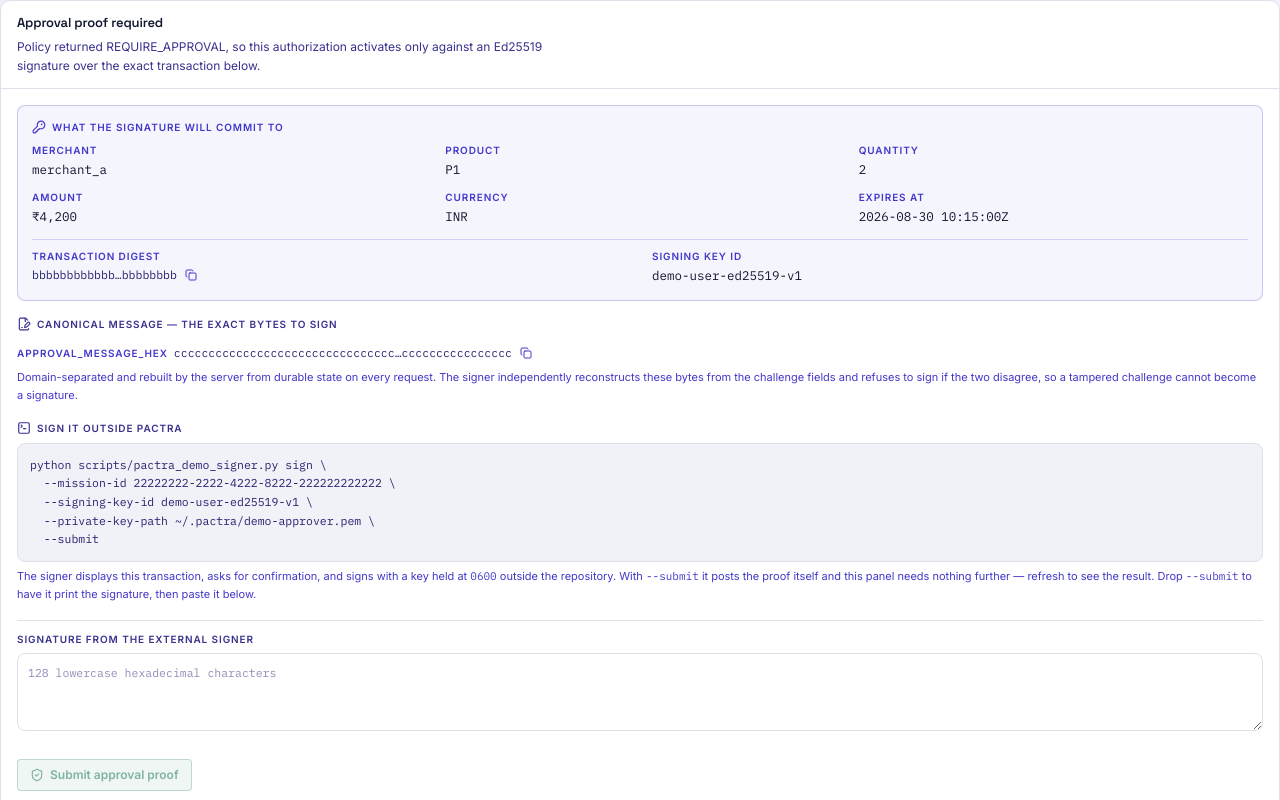
Test: SignedApprovalPanel › keeps submission disabled until the signature is well formed
Expected: the button "Submit approval proof" is disabled, [17,759,192,791]
Type "nothex" into the text box labelled "Signature from the external signer" at (640,692), box [17,653,1263,731]
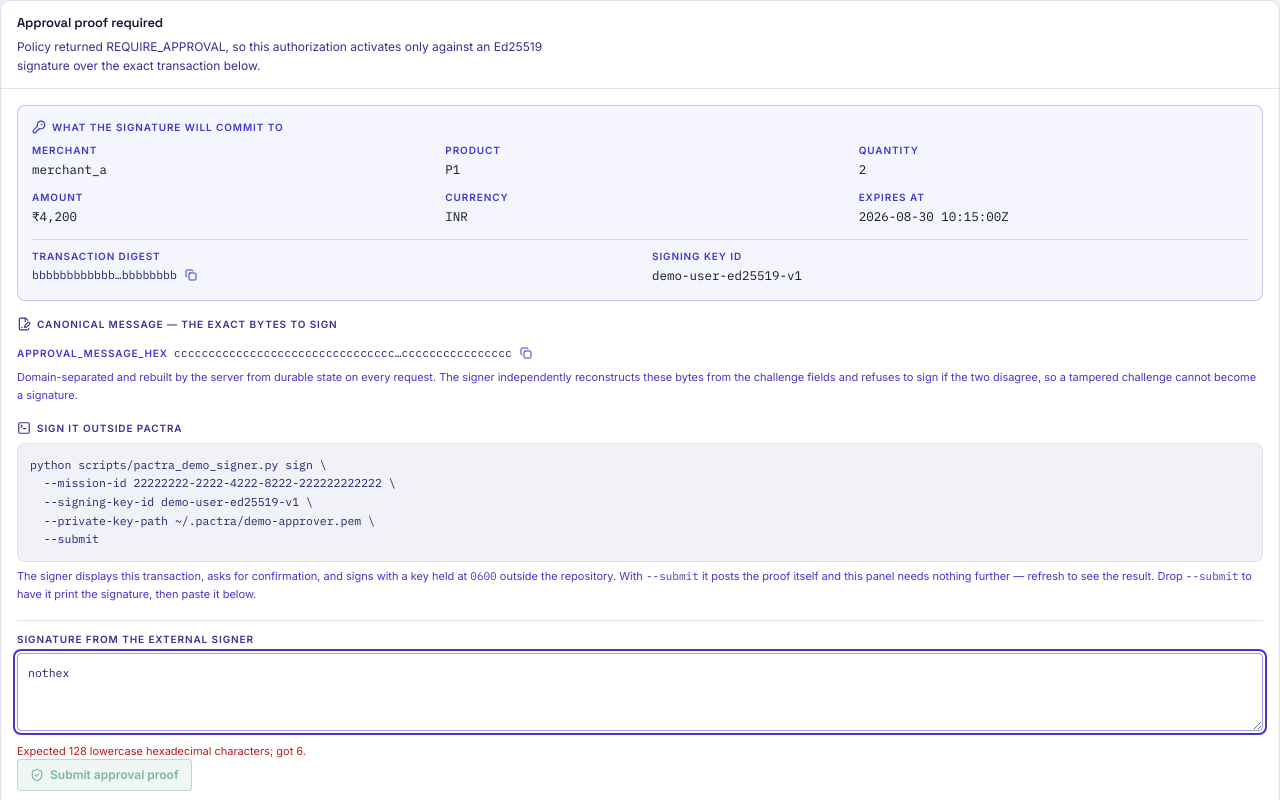
Expected: the button "Submit approval proof" is disabled, [17,759,192,791]
Now the text "Expected 128 lowercase hexadecimal characters; got 6." is shown, box [17,744,306,758]
